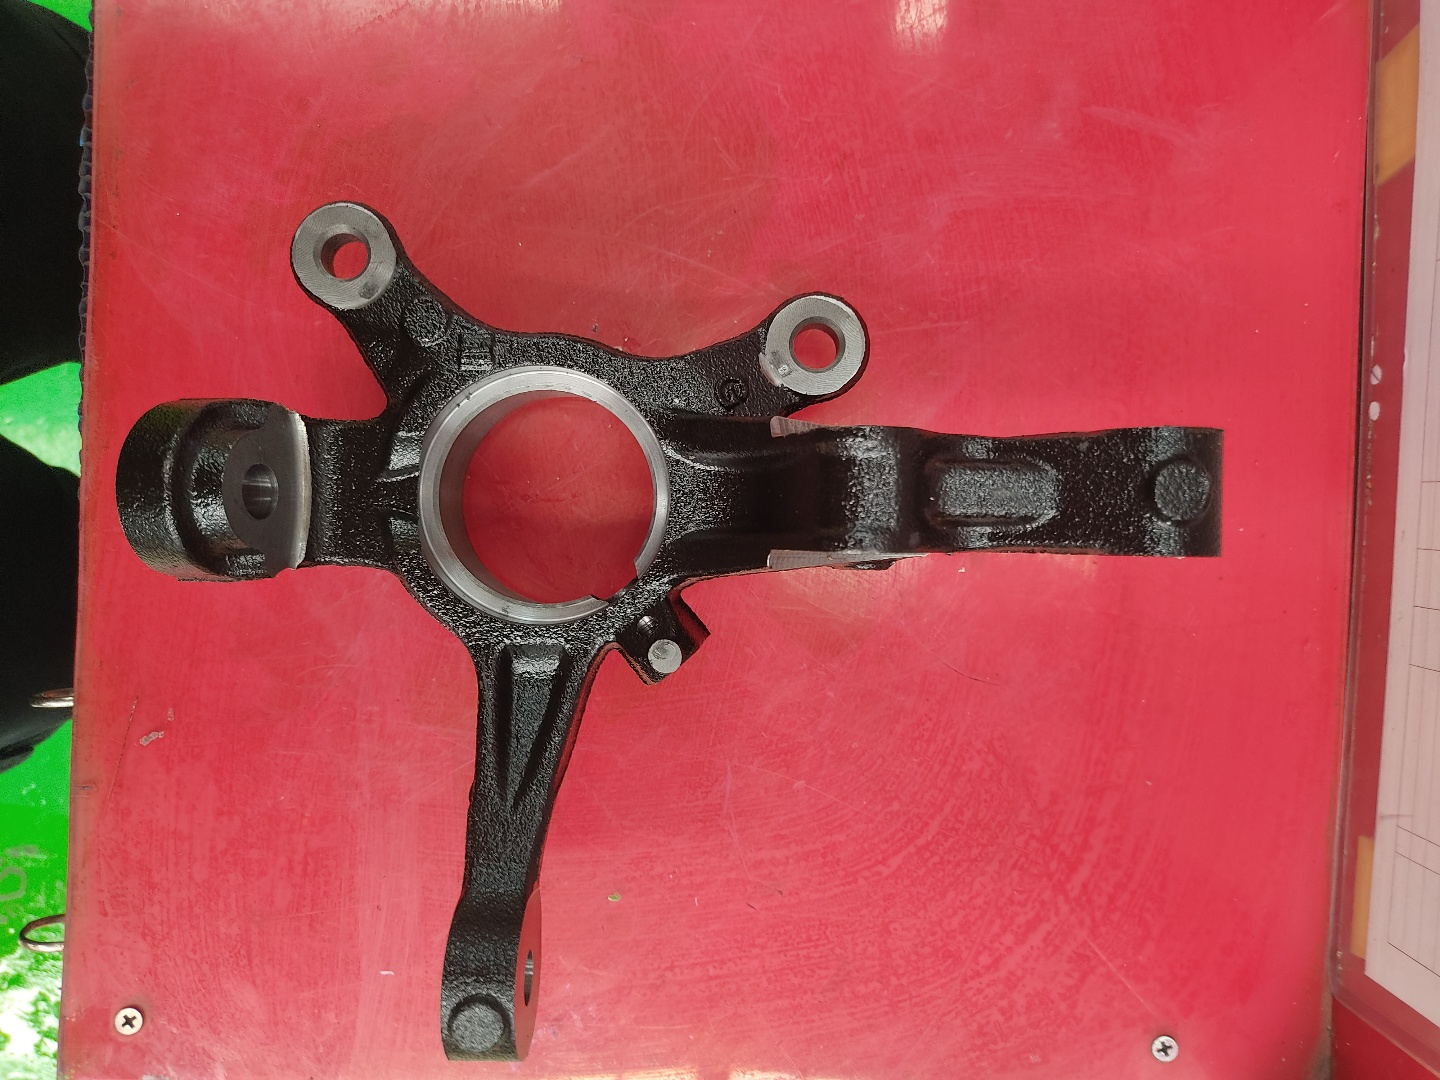abs-rh: (101, 185, 1240, 1071)
